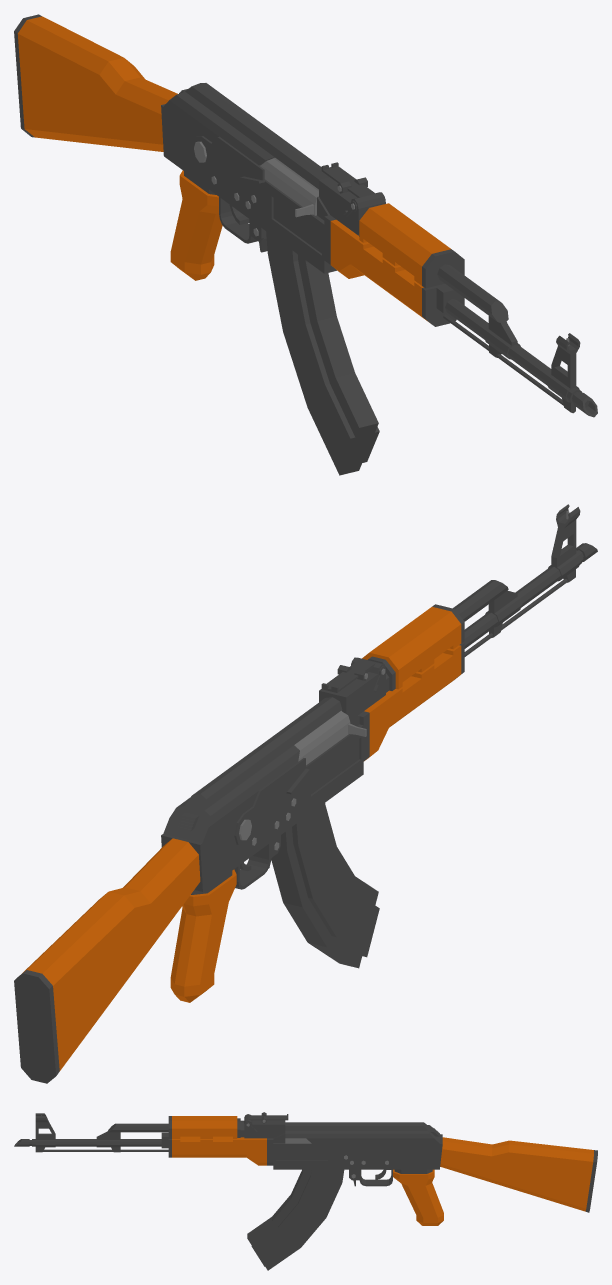
3 views of the same model, one above another, from view 1: azimuth 30°, elevation 25°; view 2: azimuth 150°, elevation 25°; view 3: azimuth 270°, elevation 25° (orthographic). The views are drawn at different scales.
Parts seen in each view (by area): view 1: Cube.010, Cube.024, Cube.014, Cube.017, Cube.012, Cube.003, Cube.004, Cylinder.023, Cube.015, Cylinder.021, Cube.018, Cylinder.002 (+6 smaller); view 2: Cube.010, Cube.024, Cube.014, Cube.017, Cube.012, Cube.011, Cube.004, Cube.003, Cylinder.021, Cube.015, Cylinder.023, Cube.018 (+3 smaller); view 3: Cube.010, Cube.024, Cube.014, Cube.017, Cube.003, Cube.012, Cube.004, Cube.015, Cylinder.023, Cylinder.002, Cube.007, Cube.023 (+2 smaller).
Part boxes in pixels (<box>): Cube.010: <box>17,16,177,151</box>; Cube.024: <box>266,231,379,475</box>; Cube.014: <box>161,104,336,273</box>; Cube.017: <box>163,83,329,189</box>; Cube.012: <box>170,170,222,280</box>; Cube.003: <box>330,219,427,321</box>; Cube.004: <box>359,203,450,285</box>; Cylinder.023: <box>445,299,597,417</box>; Cube.015: <box>317,177,385,235</box>; Cylinder.021: <box>193,136,264,183</box>; Cube.018: <box>259,157,318,217</box>; Cylinder.002: <box>437,264,508,323</box>; Cube.010: <box>22,838,200,1070</box>; Cube.024: <box>271,803,379,968</box>; Cube.014: <box>161,724,363,891</box>; Cube.017: <box>163,697,342,843</box>; Cube.012: <box>170,869,236,1002</box>; Cube.011: <box>14,970,59,1083</box>; Cube.004: <box>362,607,461,689</box>; Cube.003: <box>364,645,461,760</box>; Cylinder.021: <box>234,758,309,844</box>; Cube.015: <box>319,657,385,726</box>; Cylinder.023: <box>463,543,597,648</box>; Cube.018: <box>294,710,366,765</box>; Cube.010: <box>440,1137,593,1211</box>; Cube.024: <box>247,1169,344,1270</box>; Cube.014: <box>273,1134,442,1169</box>; Cube.017: <box>285,1122,440,1143</box>; Cube.003: <box>172,1136,266,1165</box>; Cube.012: <box>393,1169,443,1225</box>; Cube.004: <box>172,1116,237,1138</box>; Cube.015: <box>244,1114,285,1142</box>; Cylinder.023: <box>14,1139,161,1146</box>; Cylinder.002: <box>108,1123,168,1132</box>; Cube.007: <box>35,1113,55,1139</box>; Cube.023: <box>349,1169,392,1186</box>.
Bounding box in the file's own units: 0.57 × 2.9 × 9.97.
